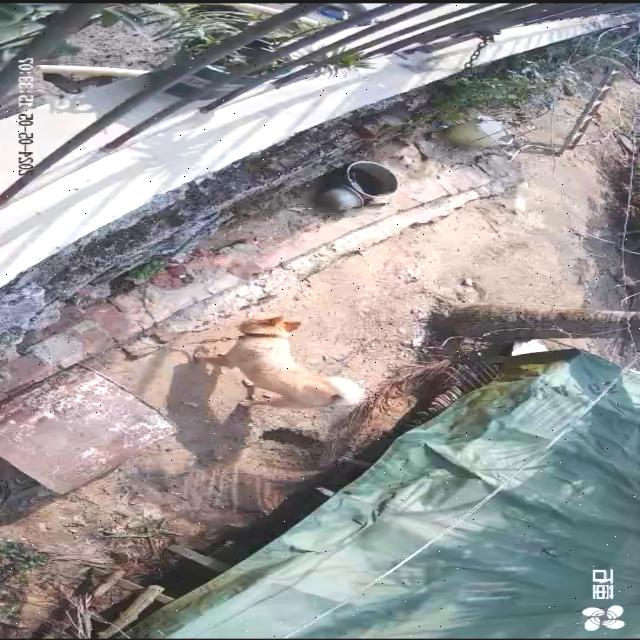dog: (195, 316, 368, 412)
